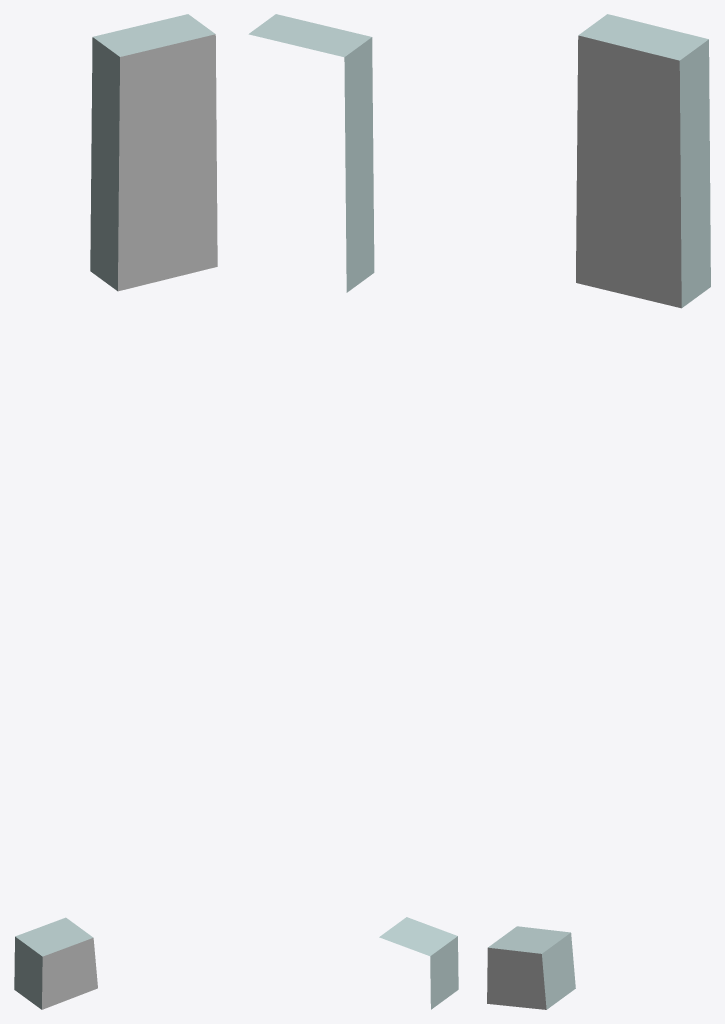
3 views of the same model, side by side, from view 1: azimuth 30°, elevation 25°; view 2: azimuth 150°, elevation 25°; view 3: azimuth 330°, elevation 25° (orthographic). The views are drawn at different scales.
Visible parts, largest first — view 1: 0_2_2_3_3_3_3_1_3; view 2: 0_2_2_3_3_3_3_1_3; view 3: 0_2_2_3_3_3_3_1_3.
Part boxes in pixels (x1=…): 0_2_2_3_3_3_3_1_3: x1=14, y1=14, x2=217, y2=1009; 0_2_2_3_3_3_3_1_3: x1=248, y1=14, x2=458, y2=1009; 0_2_2_3_3_3_3_1_3: x1=487, y1=14, x2=710, y2=1009.
Bounding box in the file's own units: 11.28 × 55.78 × 3.42.
